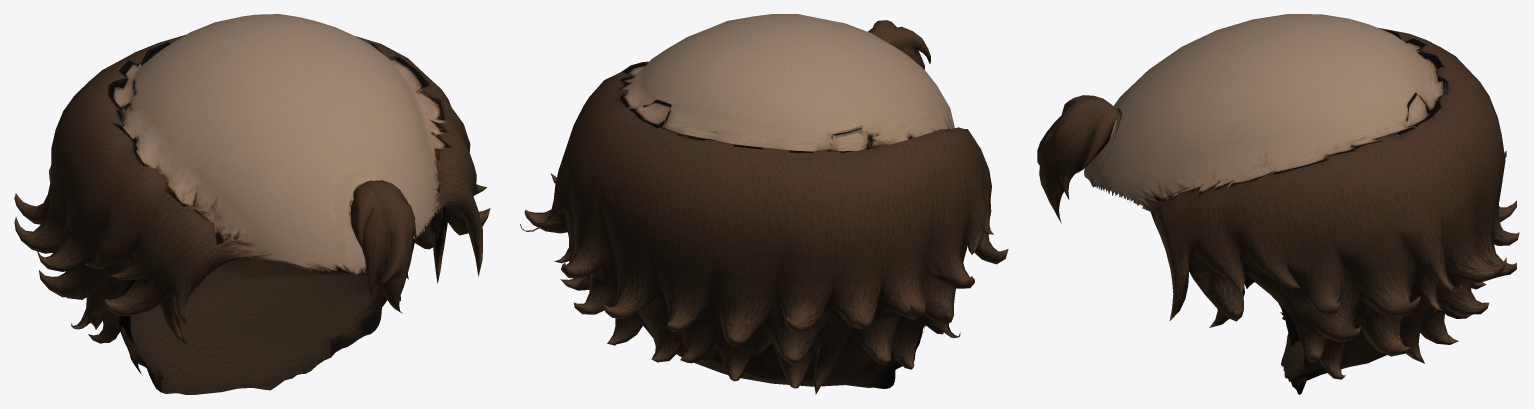
The model's file is SemiBaldWithBonusHair.fbx.
The picture shows the model from 3 angles, left to right: view 1: azimuth 30°, elevation 25°; view 2: azimuth 150°, elevation 25°; view 3: azimuth 270°, elevation 25°; orthographic projection.
Visible parts, largest first — view 1: tripo_part_2, tripo_part_0, tripo_part_1, tripo_part_5; view 2: tripo_part_0, tripo_part_2, tripo_part_3, tripo_part_1; view 3: tripo_part_0, tripo_part_2, tripo_part_1, tripo_part_5.
Boxes of the visible parts, x1,y1,x2,y2 form: tripo_part_2: [112, 14, 453, 394]; tripo_part_0: [14, 35, 490, 344]; tripo_part_1: [350, 180, 416, 313]; tripo_part_5: [218, 257, 366, 279]; tripo_part_0: [520, 61, 1008, 394]; tripo_part_2: [617, 14, 954, 388]; tripo_part_3: [711, 338, 920, 380]; tripo_part_1: [868, 20, 930, 69]; tripo_part_0: [1133, 28, 1519, 379]; tripo_part_2: [1084, 14, 1444, 394]; tripo_part_1: [1037, 95, 1119, 223]; tripo_part_5: [1304, 325, 1386, 373].
Size of the model in its own units: 0.9883 by 0.773 by 1.
